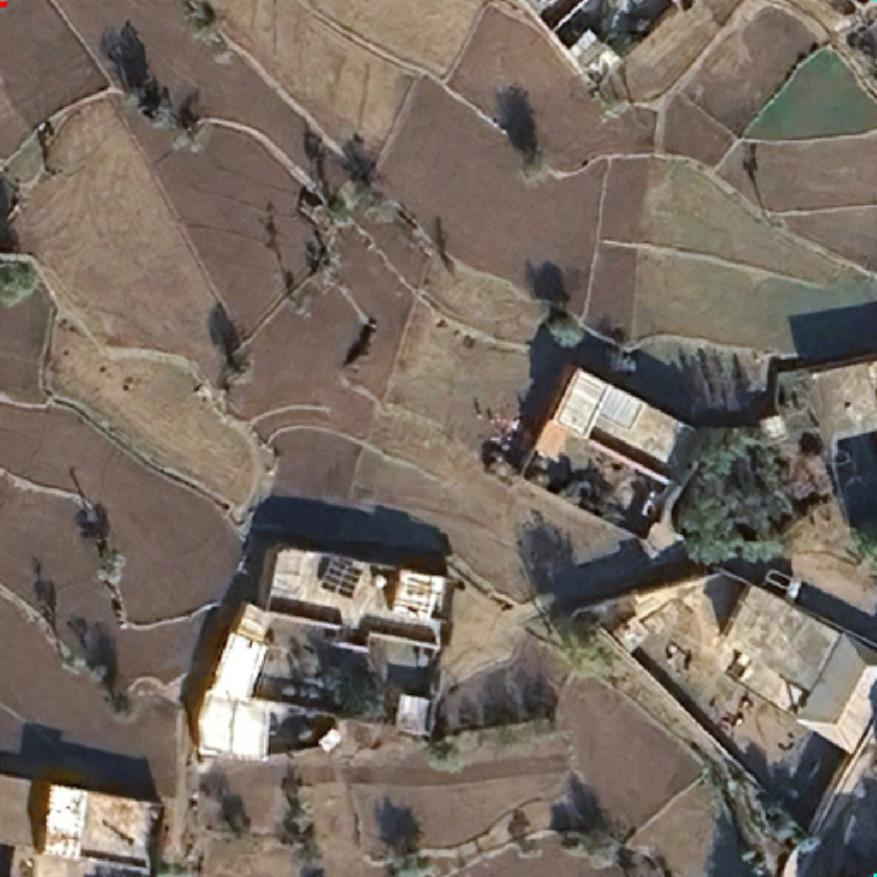Solarpanel: (312, 554, 365, 601)
